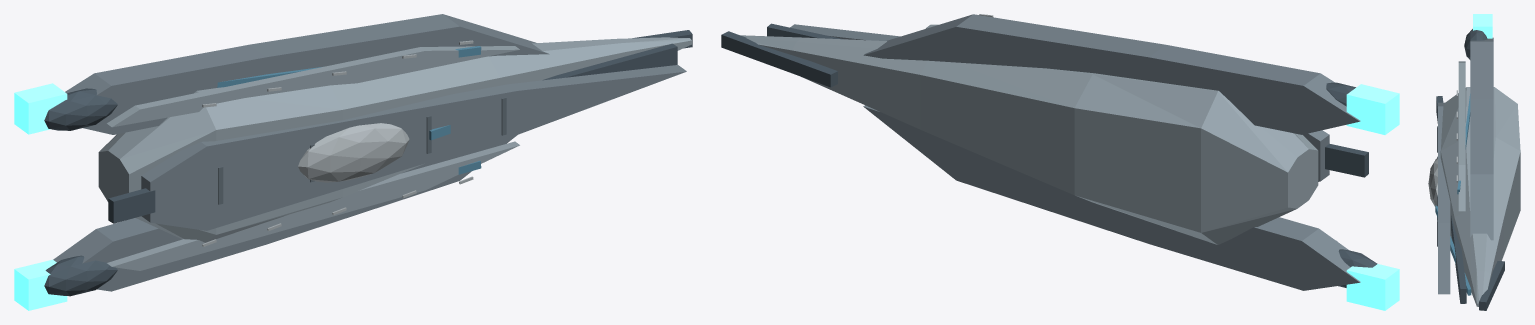
Rendered from alliance-everest.glb.
The picture shows the model from 3 angles, left to right: view 1: azimuth 30°, elevation 25°; view 2: azimuth 150°, elevation 25°; view 3: azimuth 270°, elevation 25°; orthographic projection. The views are drawn at different scales.
Parts seen in each view (by area): view 1: Hull and platework, Engines and emitters; view 2: Hull and platework, Engines and emitters; view 3: Hull and platework, Engines and emitters.
Part boxes in pixels (box(x1,y1,x2,y2)): Hull and platework: box(44, 14, 692, 296); Engines and emitters: box(14, 83, 67, 310); Hull and platework: box(721, 14, 1377, 290); Engines and emitters: box(1346, 84, 1399, 310); Hull and platework: box(1428, 29, 1520, 310); Engines and emitters: box(1473, 14, 1492, 38).
Bounding box in the file's own units: 3.82 × 1.13 × 0.67.
